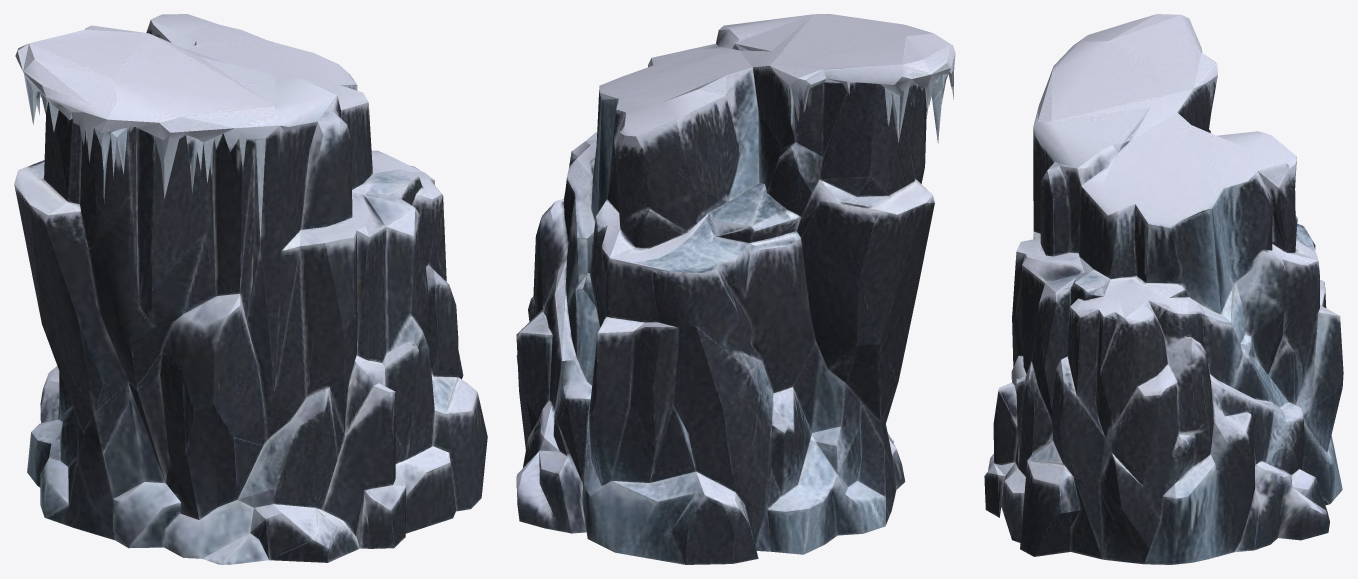
File: frozen_crag.glb
3 views of the same model, side by side, from view 1: azimuth 30°, elevation 25°; view 2: azimuth 150°, elevation 25°; view 3: azimuth 270°, elevation 25° (orthographic). The views are drawn at different scales.
Parts seen in each view (by area): view 1: Mesh_0; view 2: Mesh_0; view 3: Mesh_0.
Part boxes in pixels (box(x1,y1,x2,y2)): Mesh_0: box(14, 14, 487, 564); Mesh_0: box(516, 14, 955, 564); Mesh_0: box(984, 14, 1343, 564).
Size of the model in its own units: 1.73 by 1.9 by 1.56.
1 material, 1 textured.
